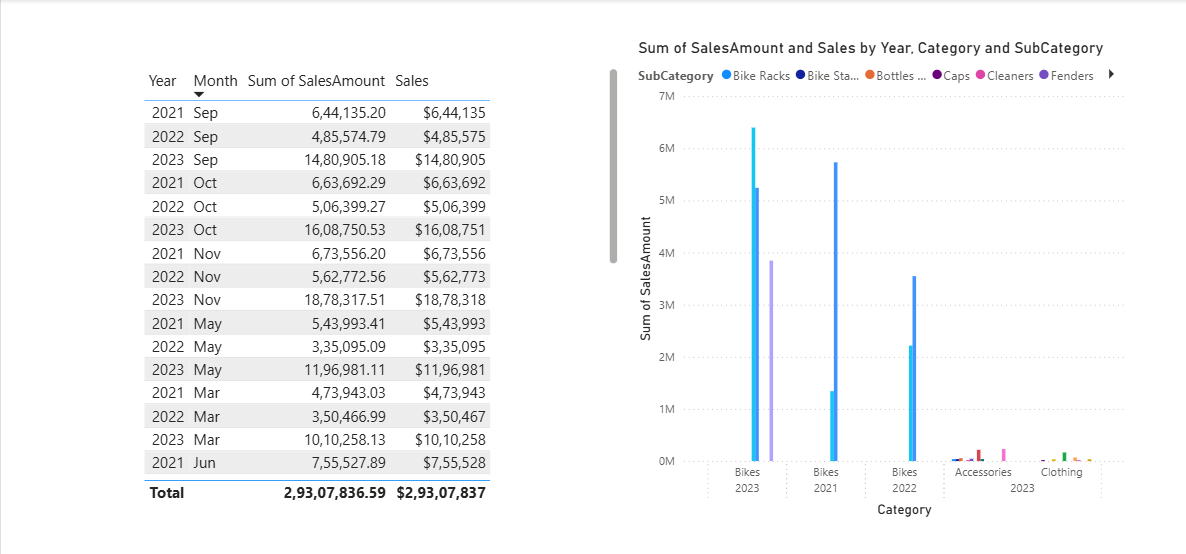

Layout of this report page (visuals, bound fields, positions):
{"tool":"powerbi","page":{"name":"Page 2","canvas":[1280,720],"ordinal":1},"visuals":[{"type":"tableEx","fields":{"Values":["Calendar.Year","Calendar.Month","Sum(Sales.SalesAmount)","Budget.Sales"]},"box":[147.3,69.6,518.3,475.4],"z":0},{"type":"clusteredColumnChart","fields":{"Category":["Calendar.Year","Product.Category"],"Y":["Sum(Sales.SalesAmount)"],"Series":["Product.SubCategory"]},"box":[677.6,41.5,531.7,518.3],"z":1000}]}

Visuals, with their boxes on the page's 1280x720 design canvas (x1, y1, x2, y2). These are canvas units, not pixel positions in the 1186x554 screenshot, which may show the page scaled, cropped or inside an application window:
tableEx - Calendar.Year x Calendar.Month: 147, 70, 666, 545
clusteredColumnChart - Calendar.Year x Product.Category: 678, 42, 1209, 560
